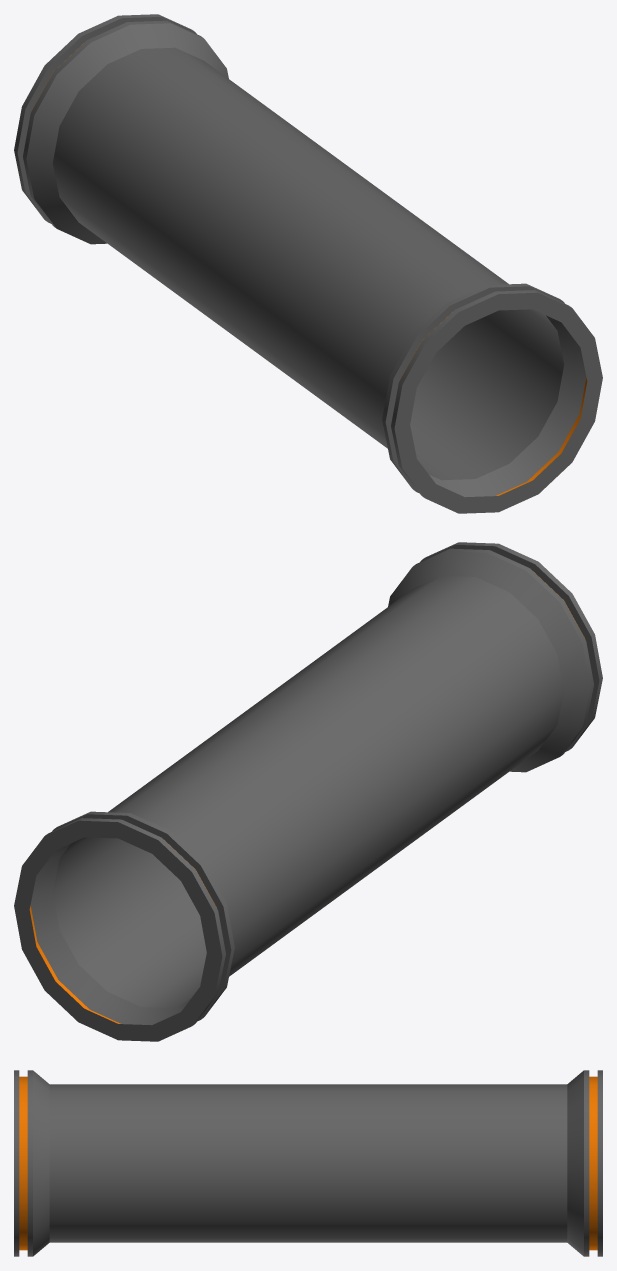
Rendered from Pipe_1.fbx.
3 views of the same model, one above another, from view 1: azimuth 30°, elevation 25°; view 2: azimuth 150°, elevation 25°; view 3: azimuth 270°, elevation 25° (orthographic). The views are drawn at different scales.
Parts seen in each view (by area): view 1: Pipe_1; view 2: Pipe_1; view 3: Pipe_1.
Boxes of the visible parts, left/top/right/bottom form: Pipe_1: left=14, top=14, right=602, bottom=513; Pipe_1: left=14, top=542, right=602, bottom=1041; Pipe_1: left=14, top=1070, right=602, bottom=1256.
Bounding box in the file's own units: 63.29 × 63.29 × 200.
